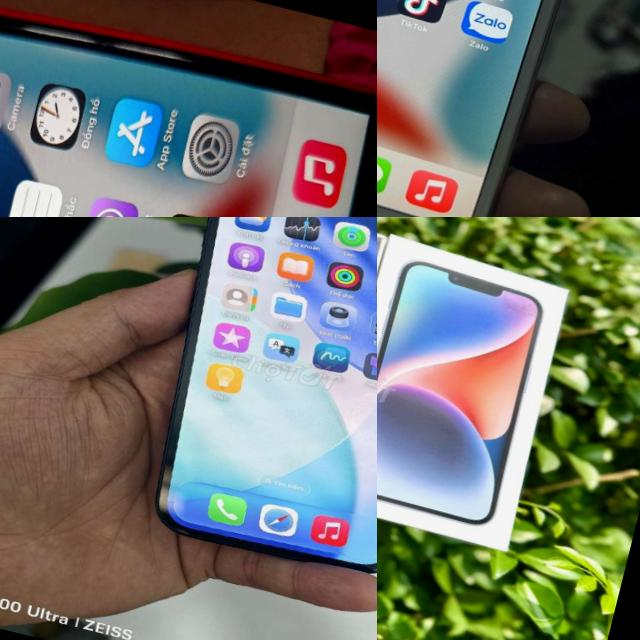gen_12_13: (131, 217, 377, 591)
gen_6: (377, 0, 633, 217)
gen_7_8: (0, 11, 377, 217)
